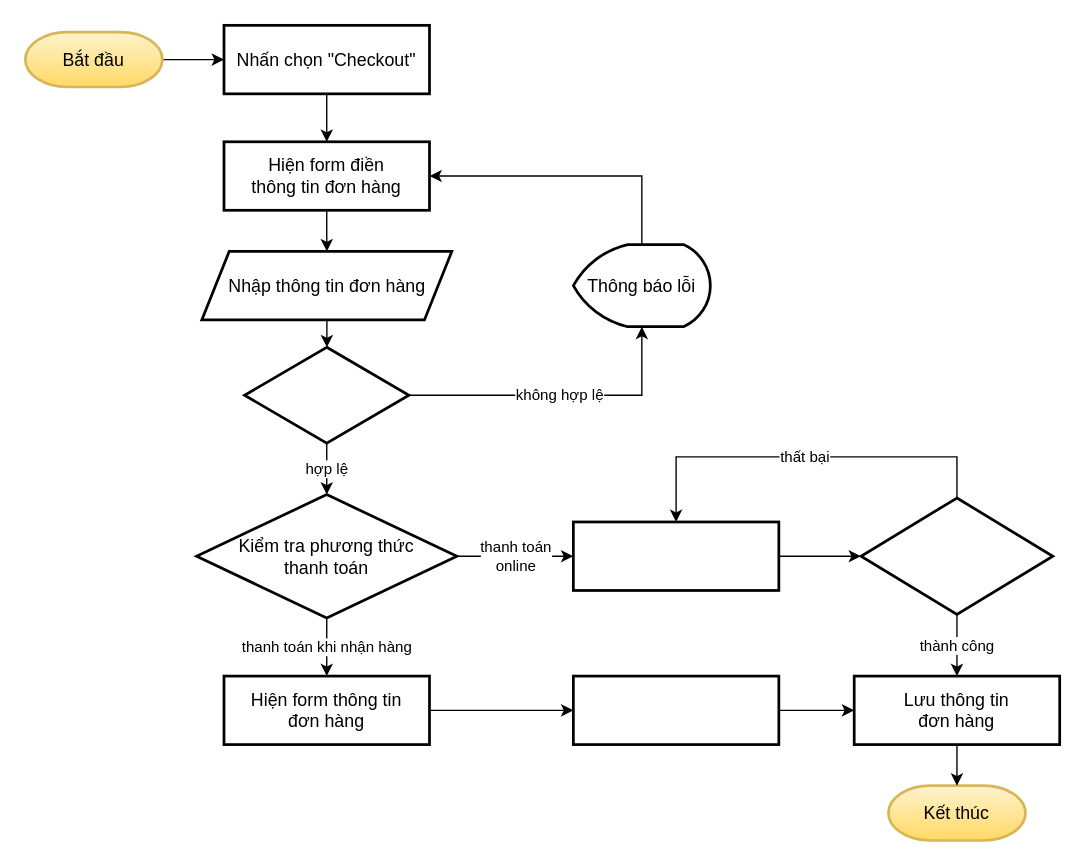
This 1084x864 diagram has some shape labels left out. Here are the shapes that lost their labels. From the top down, the centre of each, then its label:
At (x=326, y=394): "Kiểm tra thông tin".
At (x=675, y=555): "Hiện form thanh toán online".
At (x=956, y=555): "Kiểm tra kết quả thanh toán".
At (x=675, y=709): "Xác nhận đơn hàng".
